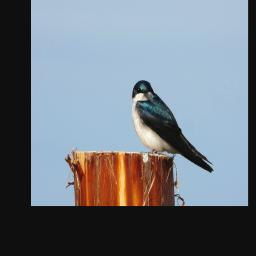Swallow: (131, 79, 215, 175)
